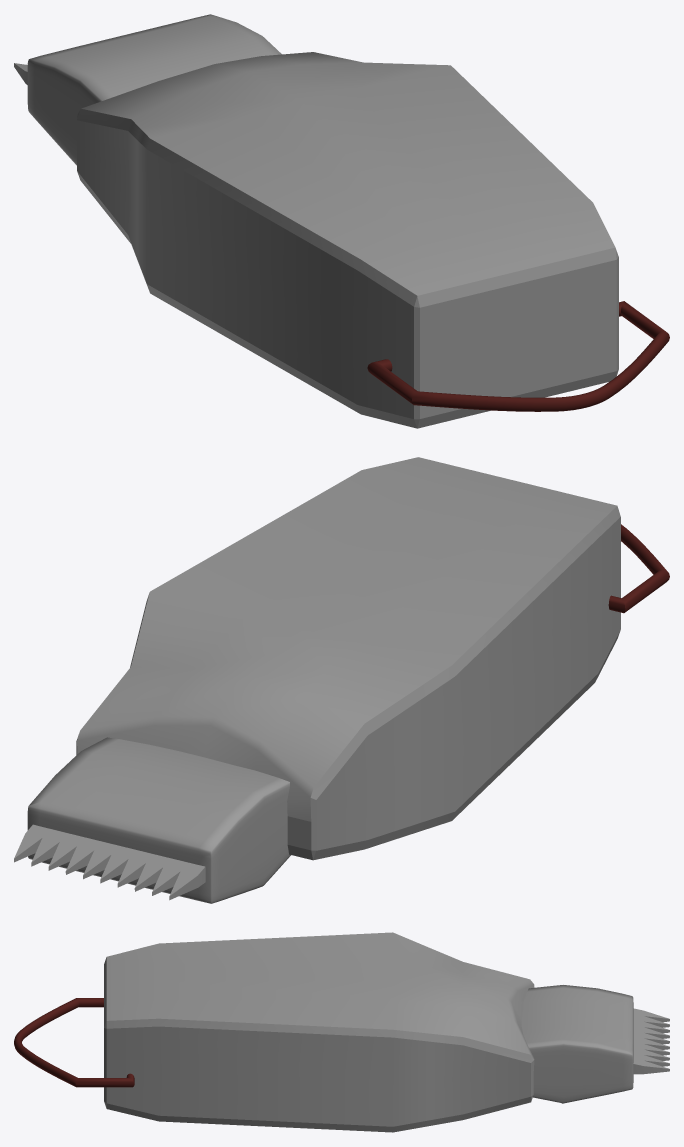
Rendered from trim 1.FBX.
3 views of the same model, one above another, from view 1: azimuth 30°, elevation 25°; view 2: azimuth 150°, elevation 25°; view 3: azimuth 270°, elevation 25° (orthographic). The views are drawn at different scales.
Visible parts, largest first — view 1: trim; view 2: trim; view 3: trim.
Boxes of the visible parts, box(x1,y1,x2,y2) form: trim: box(14, 14, 669, 428); trim: box(14, 457, 669, 903); trim: box(14, 932, 669, 1132).
Size of the model in its own units: 10.56 by 5.09 by 29.45.
